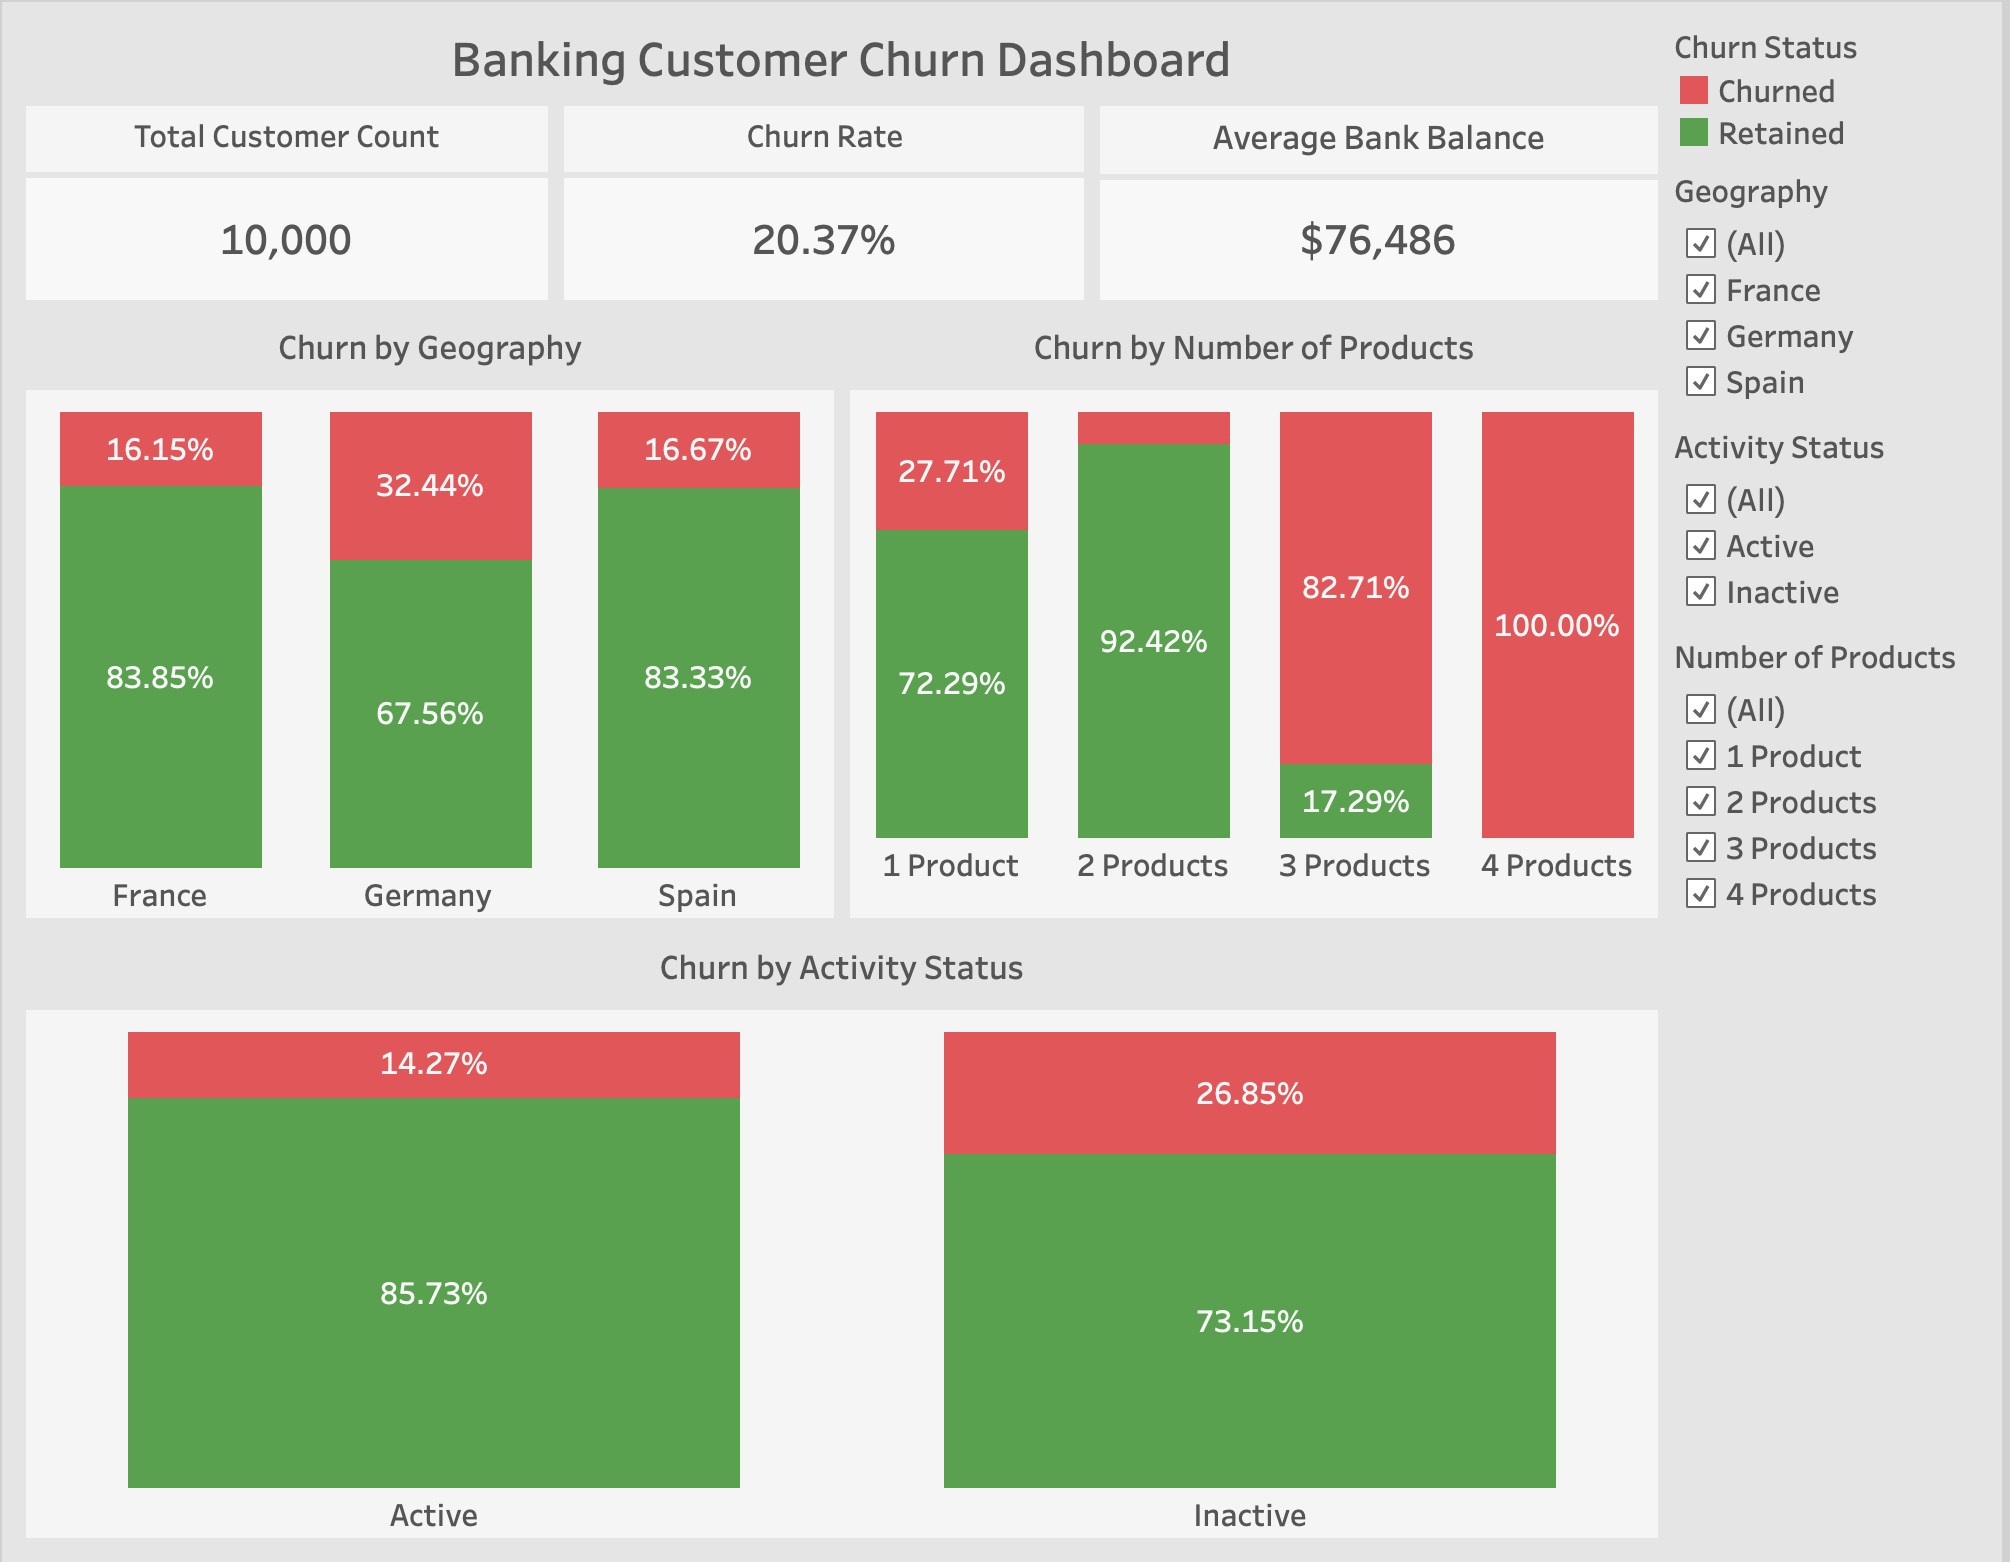

The dashboard page shown, as its layout file describes it:
{"tool":"tableau","page":{"name":"Churn Demographics","canvas":[1000,780],"ordinal":0},"visuals":[{"type":"title","box":[8,8,824,40]},{"type":"legend","title":"Churn by Geog.","param":"[federated.0erm61u090byaq194gbae0uiuqlw].[none:Calculation_6961931719165333505:n","box":[832,8,160,72]},{"type":"worksheet","title":"TotalCust.","mark":"Automatic","box":[8,48,268.7,105]},{"type":"worksheet","title":"Churn %","mark":"Automatic","box":[276.7,48,268.7,105]},{"type":"worksheet","title":"Avg BankB.","mark":"Automatic","box":[545.3,48,286.7,105]},{"type":"filter","title":"Churn by Geog.","param":"[federated.0erm61u090byaq194gbae0uiuqlw].[none:Geography:nk]","box":[832,80,160,128]},{"type":"worksheet","title":"Churn by Geog.","mark":"Bar","cols":["Geography"],"box":[8,153,412,309.5]},{"type":"worksheet","title":"Churn by Prod.","mark":"Bar","cols":["Calculation_6332342564686606336"],"box":[420,153,412,309.5]},{"type":"filter","title":"Churn by Act.","param":"[federated.0erm61u090byaq194gbae0uiuqlw].[none:Calculation_6961931719173402630:n","box":[832,208,160,105]},{"type":"filter","title":"Churn by Prod.","param":"[federated.0erm61u090byaq194gbae0uiuqlw].[none:Calculation_6332342564686606336:n","box":[832,313,160,151]},{"type":"worksheet","title":"Churn by Act.","mark":"Bar","cols":["Calculation_6961931719173402630"],"box":[8,462.5,824,309.5]}]}

Visuals, with their boxes in screenshot pixels (x1, y1, x2, y2), scaled from the page's 1000x780 canvas onto the 2010x1562 screenshot:
title: [16,16,1672,96]
"Churn by Geog." legend: [1672,16,1994,160]
"TotalCust." worksheet: [16,96,556,306]
"Churn %" worksheet: [556,96,1096,306]
"Avg BankB." worksheet: [1096,96,1672,306]
"Churn by Geog." filter: [1672,160,1994,417]
"Churn by Geog." worksheet (Bar marks): [16,306,844,926]
"Churn by Prod." worksheet (Bar marks): [844,306,1672,926]
"Churn by Act." filter: [1672,417,1994,627]
"Churn by Prod." filter: [1672,627,1994,929]
"Churn by Act." worksheet (Bar marks): [16,926,1672,1546]
